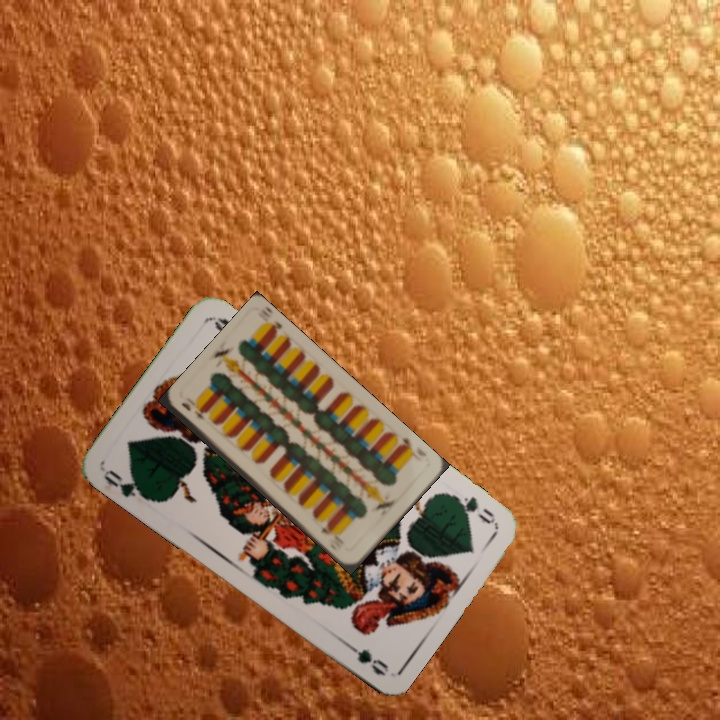E10: (177, 398, 208, 423), (394, 433, 416, 454)
GO: (99, 465, 155, 503), (445, 490, 498, 527)
